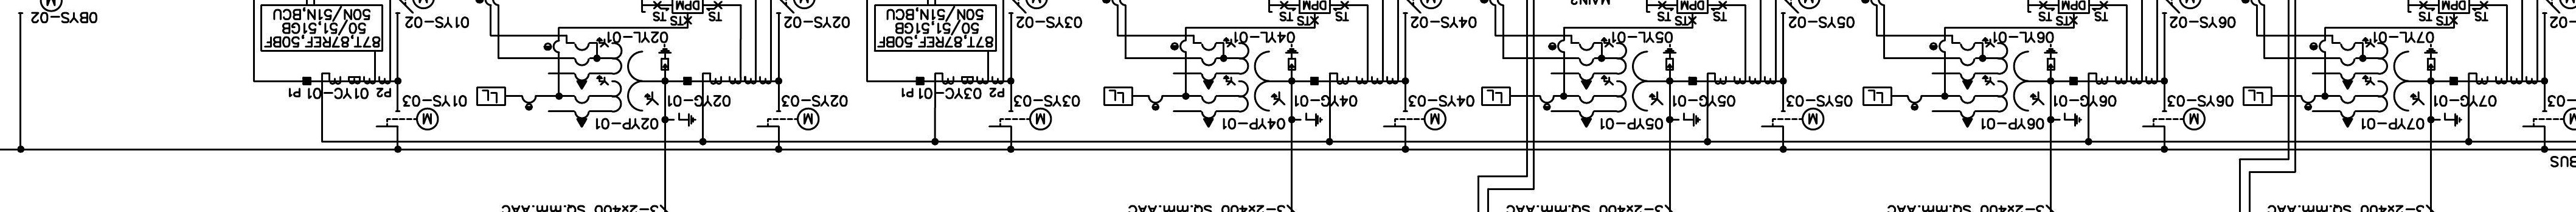115_1way_ds_w_motor: (987, 107, 1053, 131), (375, 107, 440, 131), (2141, 107, 2206, 130), (756, 107, 821, 130), (1761, 107, 1825, 130), (1383, 107, 1447, 130)
115_gs: (2438, 112, 2463, 128), (2058, 112, 2083, 128), (1677, 112, 1702, 128), (1299, 112, 1324, 128), (672, 112, 697, 128)
115_la: (2423, 43, 2438, 71), (2044, 43, 2058, 71), (1663, 43, 1677, 71), (1285, 43, 1299, 71), (657, 43, 672, 71)
115_vt_3p: (1958, 36, 2045, 128), (2339, 36, 2425, 128), (1579, 36, 1664, 128), (1201, 36, 1286, 128), (573, 36, 659, 128)
LL: (1861, 85, 1893, 107), (1102, 85, 1134, 107), (2242, 85, 2272, 107), (1482, 85, 1511, 107), (476, 87, 508, 107)
